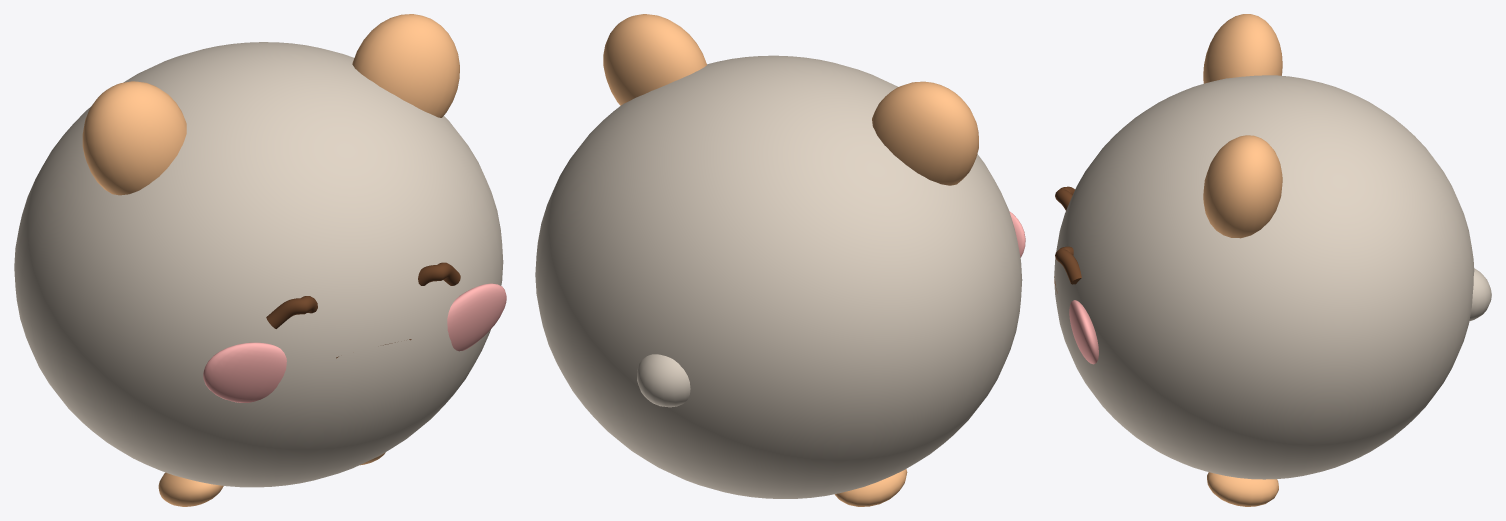
The model's file is golumolu_v005.fbx.
3 renders of one model, left to right at view 1: azimuth 30°, elevation 25°; view 2: azimuth 150°, elevation 25°; view 3: azimuth 270°, elevation 25°, orthographic. The views are drawn at different scales.
Parts seen in each view (by area): view 1: Golumolu_Body, Golumolu_Ear_L, Golumolu_Ear_R, Golumolu_Cheek_L, Golumolu_Cheek_R, Golumolu_Foot_L, Golumolu_Eye_L, Golumolu_Eye_R; view 2: Golumolu_Body, Golumolu_Ear_L, Golumolu_Ear_R, Golumolu_Tail, Golumolu_Foot_L; view 3: Golumolu_Body, Golumolu_Ear_R, Golumolu_Ear_L, Golumolu_Foot_R, Golumolu_Cheek_R, Golumolu_Tail, Golumolu_Eye_R.
Part boxes in pixels (x1=…): Golumolu_Body: x1=14, y1=42, x2=503, y2=487; Golumolu_Ear_L: x1=82, y1=81, x2=186, y2=195; Golumolu_Ear_R: x1=352, y1=14, x2=459, y2=117; Golumolu_Cheek_L: x1=203, y1=342, x2=286, y2=402; Golumolu_Cheek_R: x1=447, y1=283, x2=506, y2=351; Golumolu_Foot_L: x1=158, y1=472, x2=223, y2=506; Golumolu_Eye_L: x1=266, y1=296, x2=317, y2=328; Golumolu_Eye_R: x1=418, y1=262, x2=460, y2=285; Golumolu_Body: x1=535, y1=55, x2=1022, y2=498; Golumolu_Ear_L: x1=872, y1=81, x2=978, y2=185; Golumolu_Ear_R: x1=603, y1=14, x2=706, y2=105; Golumolu_Tail: x1=637, y1=354, x2=690, y2=407; Golumolu_Foot_L: x1=835, y1=469, x2=907, y2=506; Golumolu_Body: x1=1054, y1=75, x2=1474, y2=479; Golumolu_Ear_R: x1=1203, y1=135, x2=1282, y2=238; Golumolu_Ear_L: x1=1203, y1=14, x2=1282, y2=83; Golumolu_Foot_R: x1=1207, y1=472, x2=1278, y2=506; Golumolu_Cheek_R: x1=1069, y1=300, x2=1098, y2=364; Golumolu_Tail: x1=1469, y1=268, x2=1491, y2=321; Golumolu_Eye_R: x1=1055, y1=246, x2=1081, y2=284.
Bounding box in the file's own units: 208 × 200 × 204.
